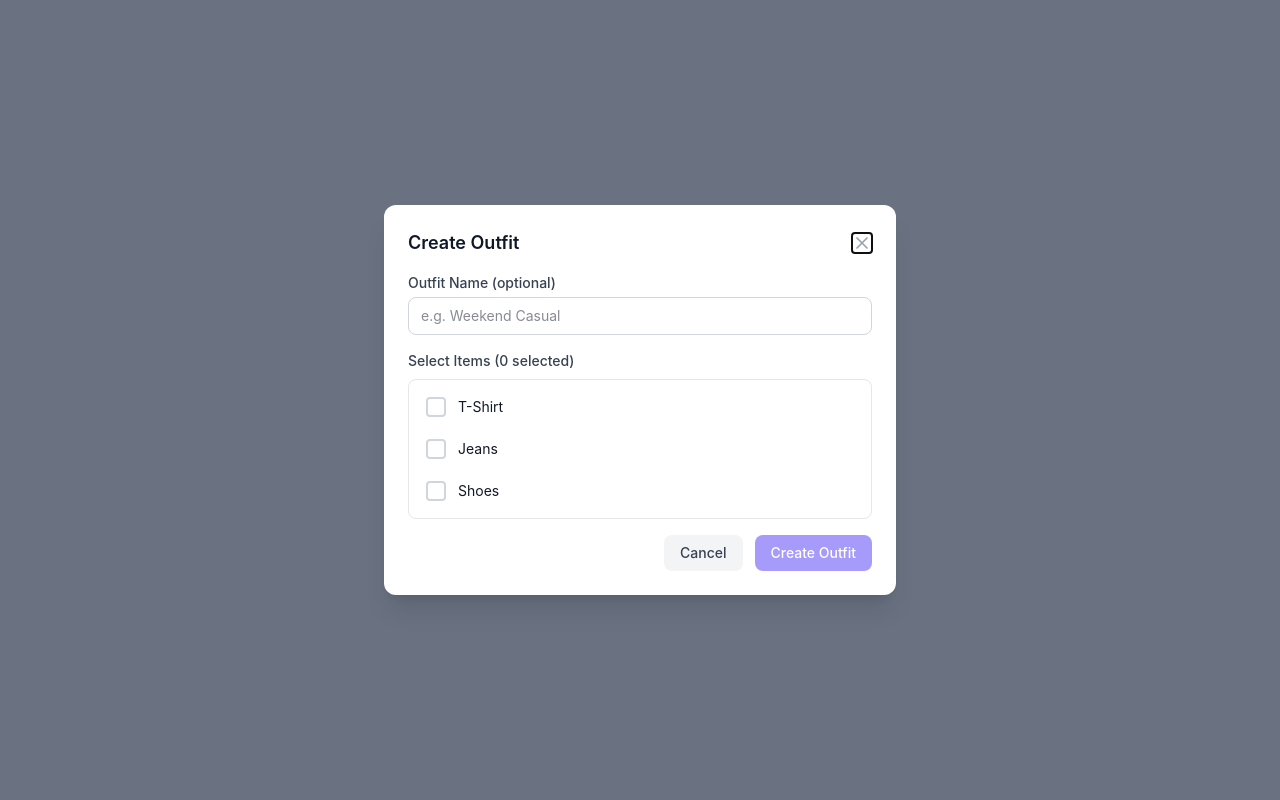
Test: CreateOutfitModal › enables create button when items selected
Click the button "T-Shirt" at [481, 406], box [417,388,863,426]
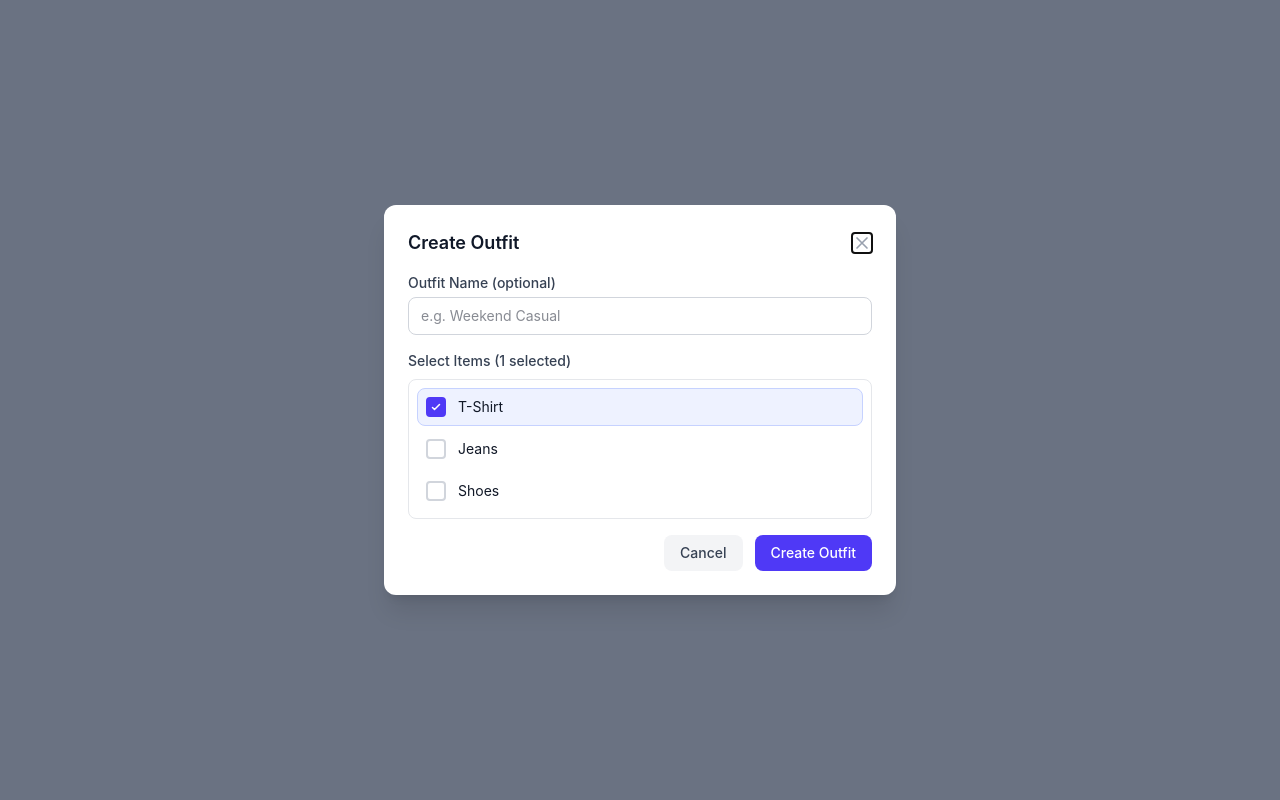
Check: the button "Create Outfit" is enabled, box [754,535,872,571]
